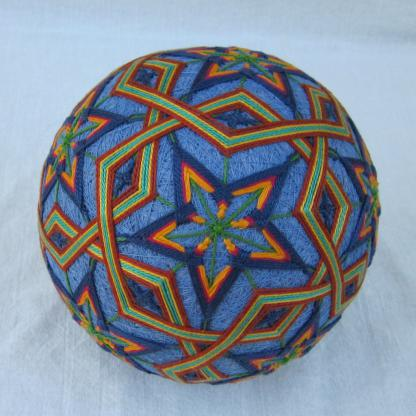Ball: (34, 46, 380, 387)
